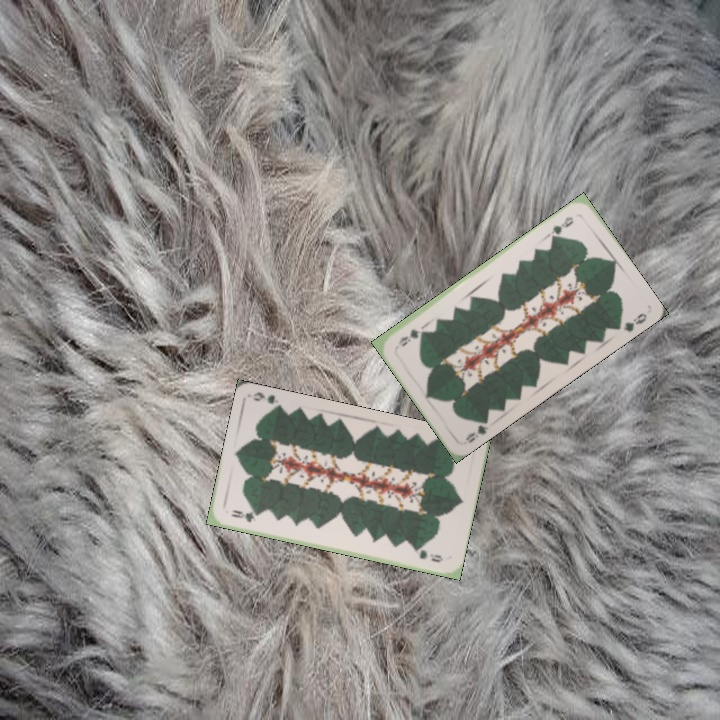G9: (461, 412, 491, 446), (544, 212, 576, 242), (227, 506, 261, 525)
